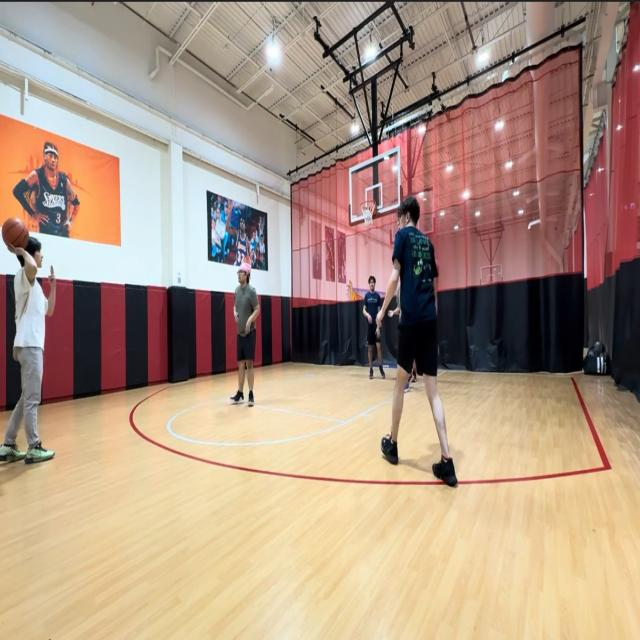Basketball: (1, 217, 29, 250)
Basketball Rim: (360, 200, 376, 226)
Player: (376, 195, 458, 490), (1, 234, 57, 467), (228, 261, 260, 408), (362, 274, 387, 381)
